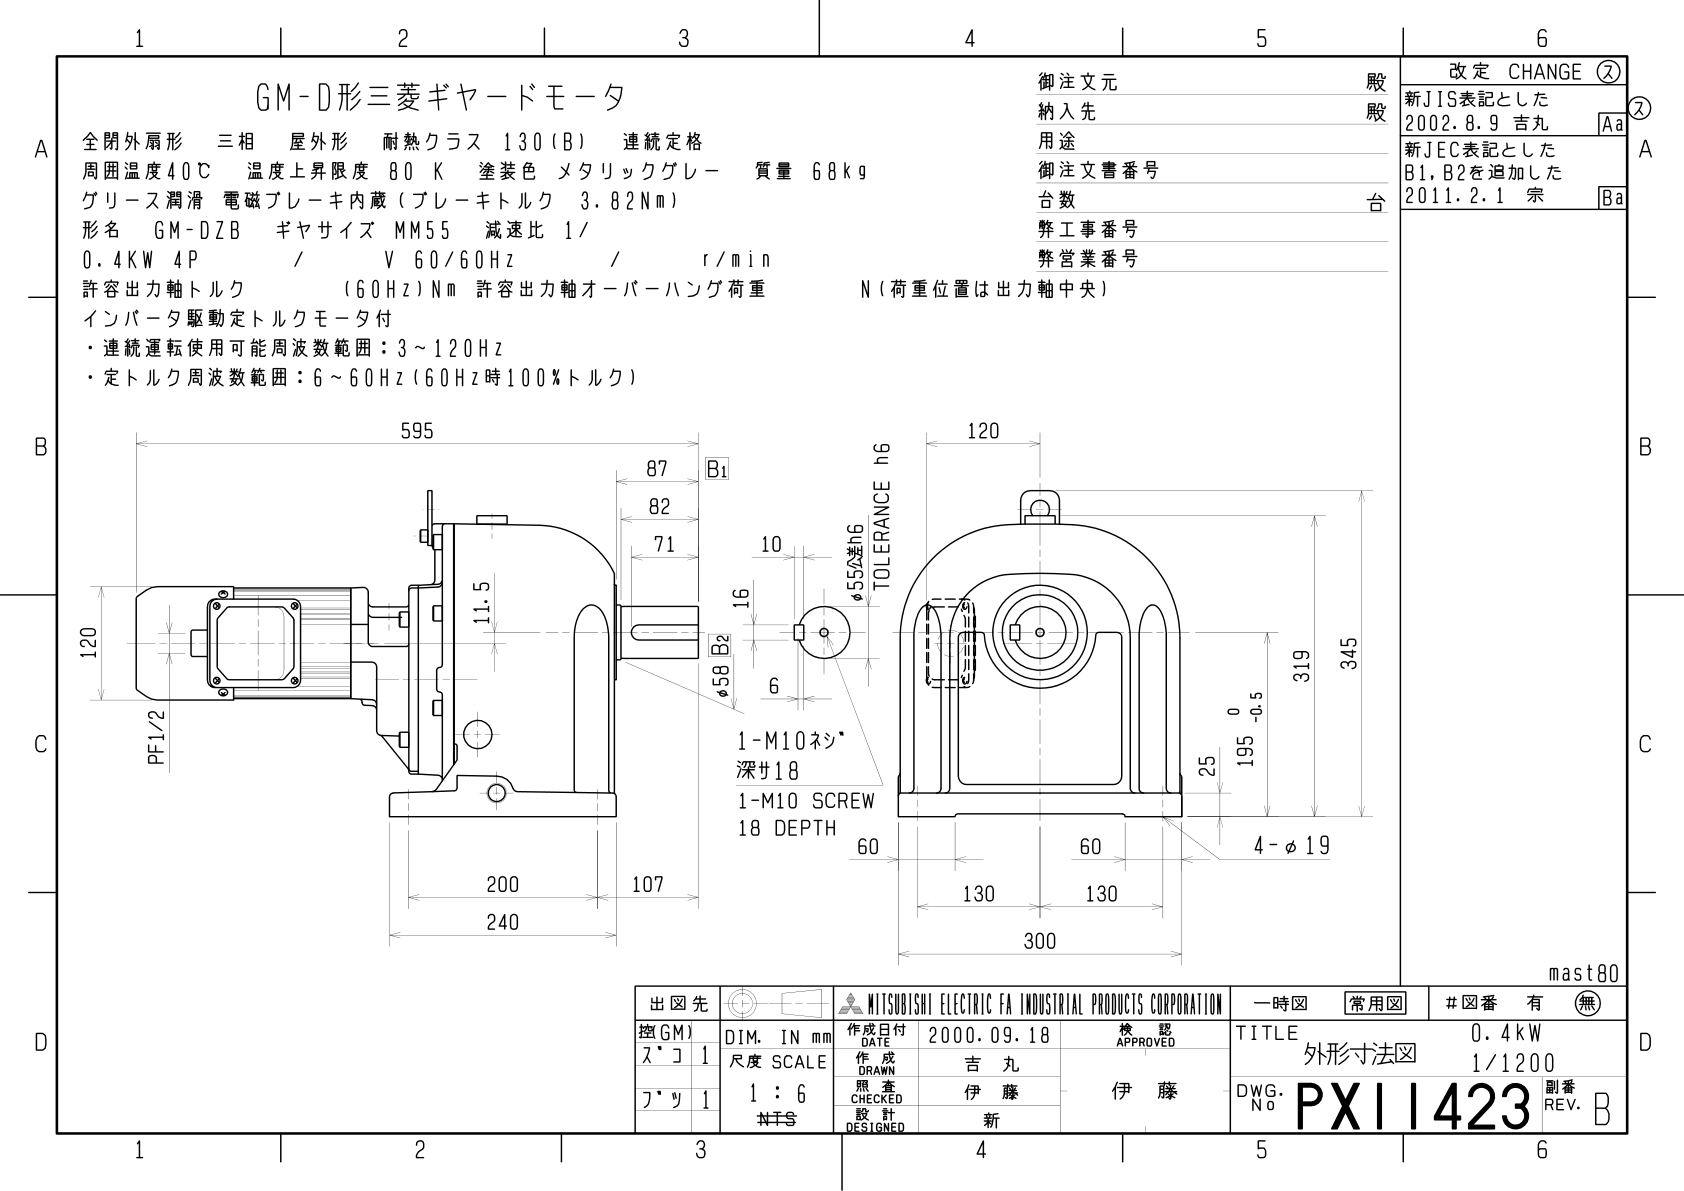GM_D_インバータ屋外_三相_脚: (64, 398, 1377, 965)
